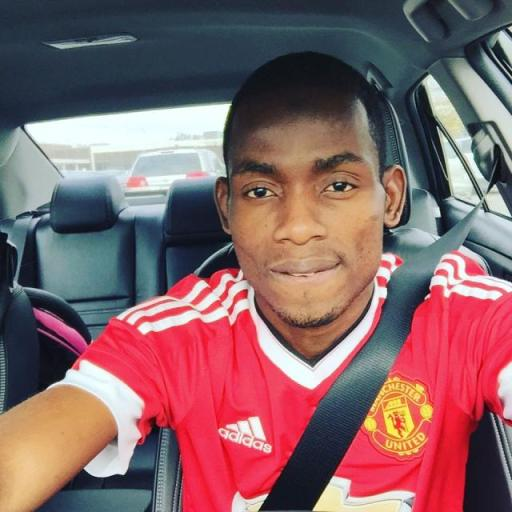Adidas: (216, 412, 274, 456)
